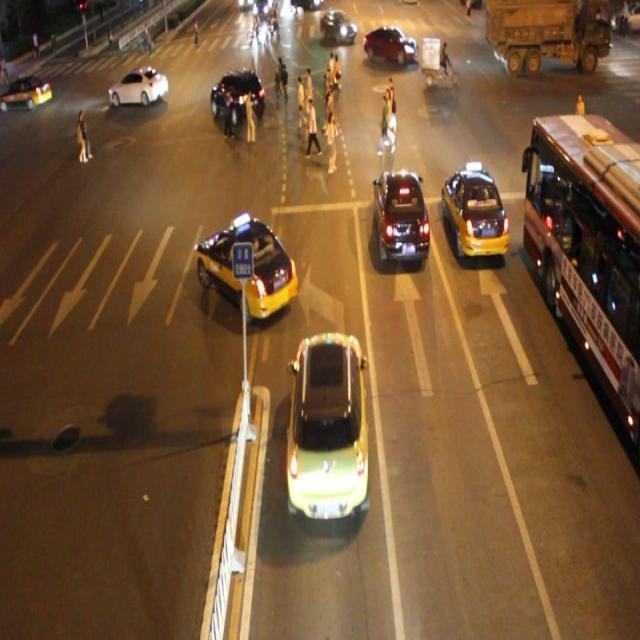bus: (483, 1, 609, 75)
car: (285, 327, 369, 513), (193, 215, 298, 322), (441, 170, 508, 260), (372, 167, 429, 264), (211, 68, 264, 125), (108, 66, 168, 108), (363, 23, 419, 67), (319, 8, 356, 46)
van: (520, 113, 640, 450)
